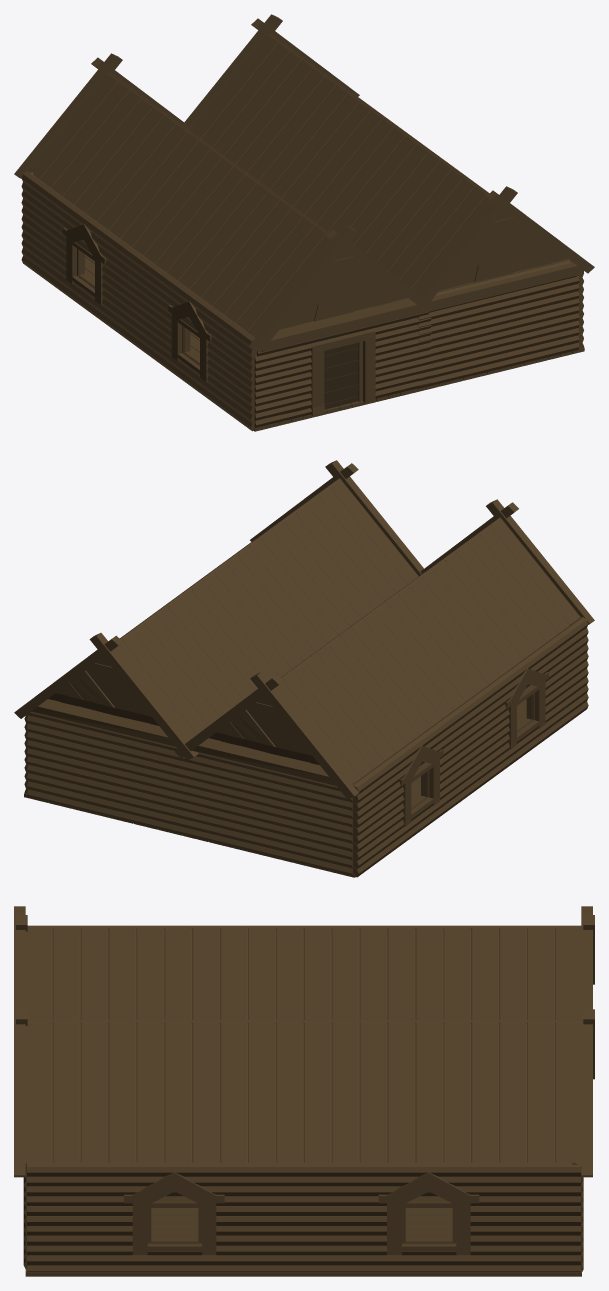
The model's file is Casa bosque 4.fbx.
3 views of the same model, one above another, from view 1: azimuth 30°, elevation 25°; view 2: azimuth 150°, elevation 25°; view 3: azimuth 270°, elevation 25° (orthographic). The views are drawn at different scales.
Visible parts, largest first — view 1: Roof_01_b.001, Roof_01_b, Wall_Wide_01_b, Wall_Narrow_02_b, Wall_Narrow_01_b, Door_03, Floor_01_c.002, Floor_01_c.001; view 2: Roof_01_b.001, Roof_01_b, Wall_Wide_02_b.002, Wall_Wide_01_b, Floor_01_c.002; view 3: Roof_01_b, Wall_Wide_01_b.001, Roof_01_b.001, Floor_01_c.001.
Boxes of the visible parts, box(x1,y1,x2,y2) form: Roof_01_b.001: box(14, 53, 434, 352); Roof_01_b: box(184, 14, 594, 313); Wall_Wide_01_b: box(21, 171, 256, 431); Wall_Narrow_02_b: box(418, 260, 579, 388); Wall_Narrow_01_b: box(254, 312, 431, 427); Door_03: box(324, 342, 358, 409); Floor_01_c.002: box(85, 254, 424, 431); Floor_01_c.001: box(425, 347, 584, 389); Roof_01_b.001: box(175, 499, 594, 799); Roof_01_b: box(14, 460, 423, 760); Wall_Wide_02_b.002: box(27, 711, 355, 875); Wall_Wide_01_b: box(350, 617, 588, 877); Floor_01_c.002: box(188, 699, 526, 877); Roof_01_b: box(14, 1000, 594, 1177); Wall_Wide_01_b.001: box(27, 1162, 580, 1271); Roof_01_b.001: box(14, 906, 594, 1019); Floor_01_c.001: box(25, 1208, 581, 1276).
Bounding box in the file's own units: 828 × 426 × 1013.
